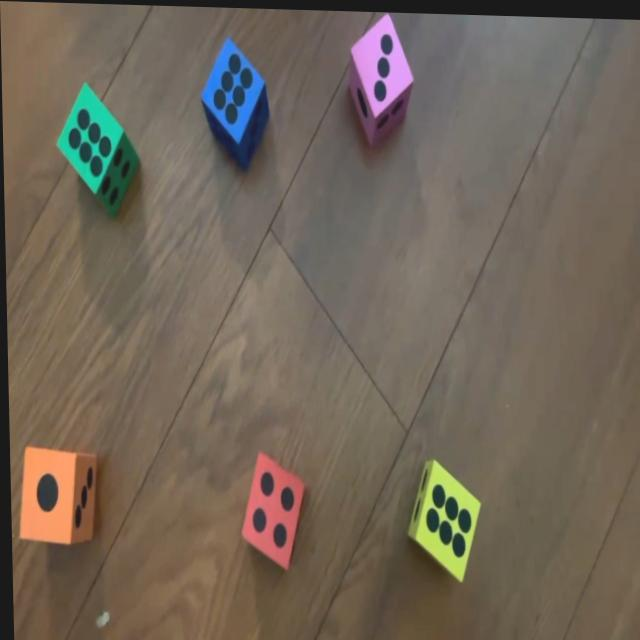cube: (53, 78, 138, 216), (200, 36, 268, 164), (237, 448, 303, 568)
